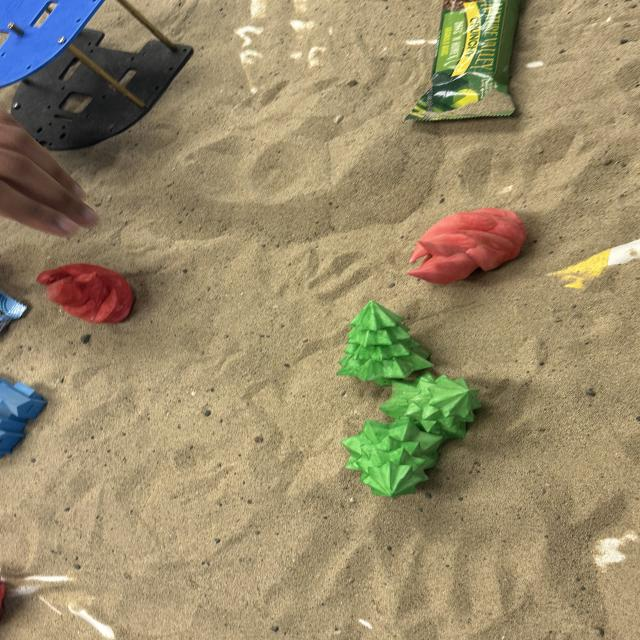fire: (405, 205, 528, 286), (36, 260, 141, 326)
house: (0, 373, 53, 456)
tree: (333, 298, 482, 498)
